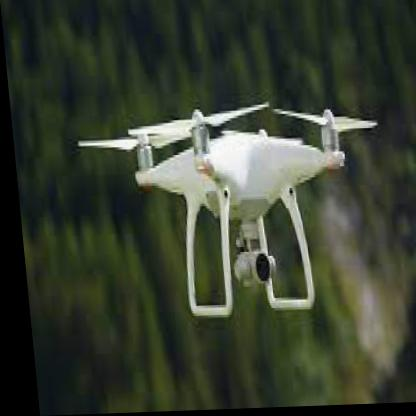UAS: (74, 105, 389, 322)
